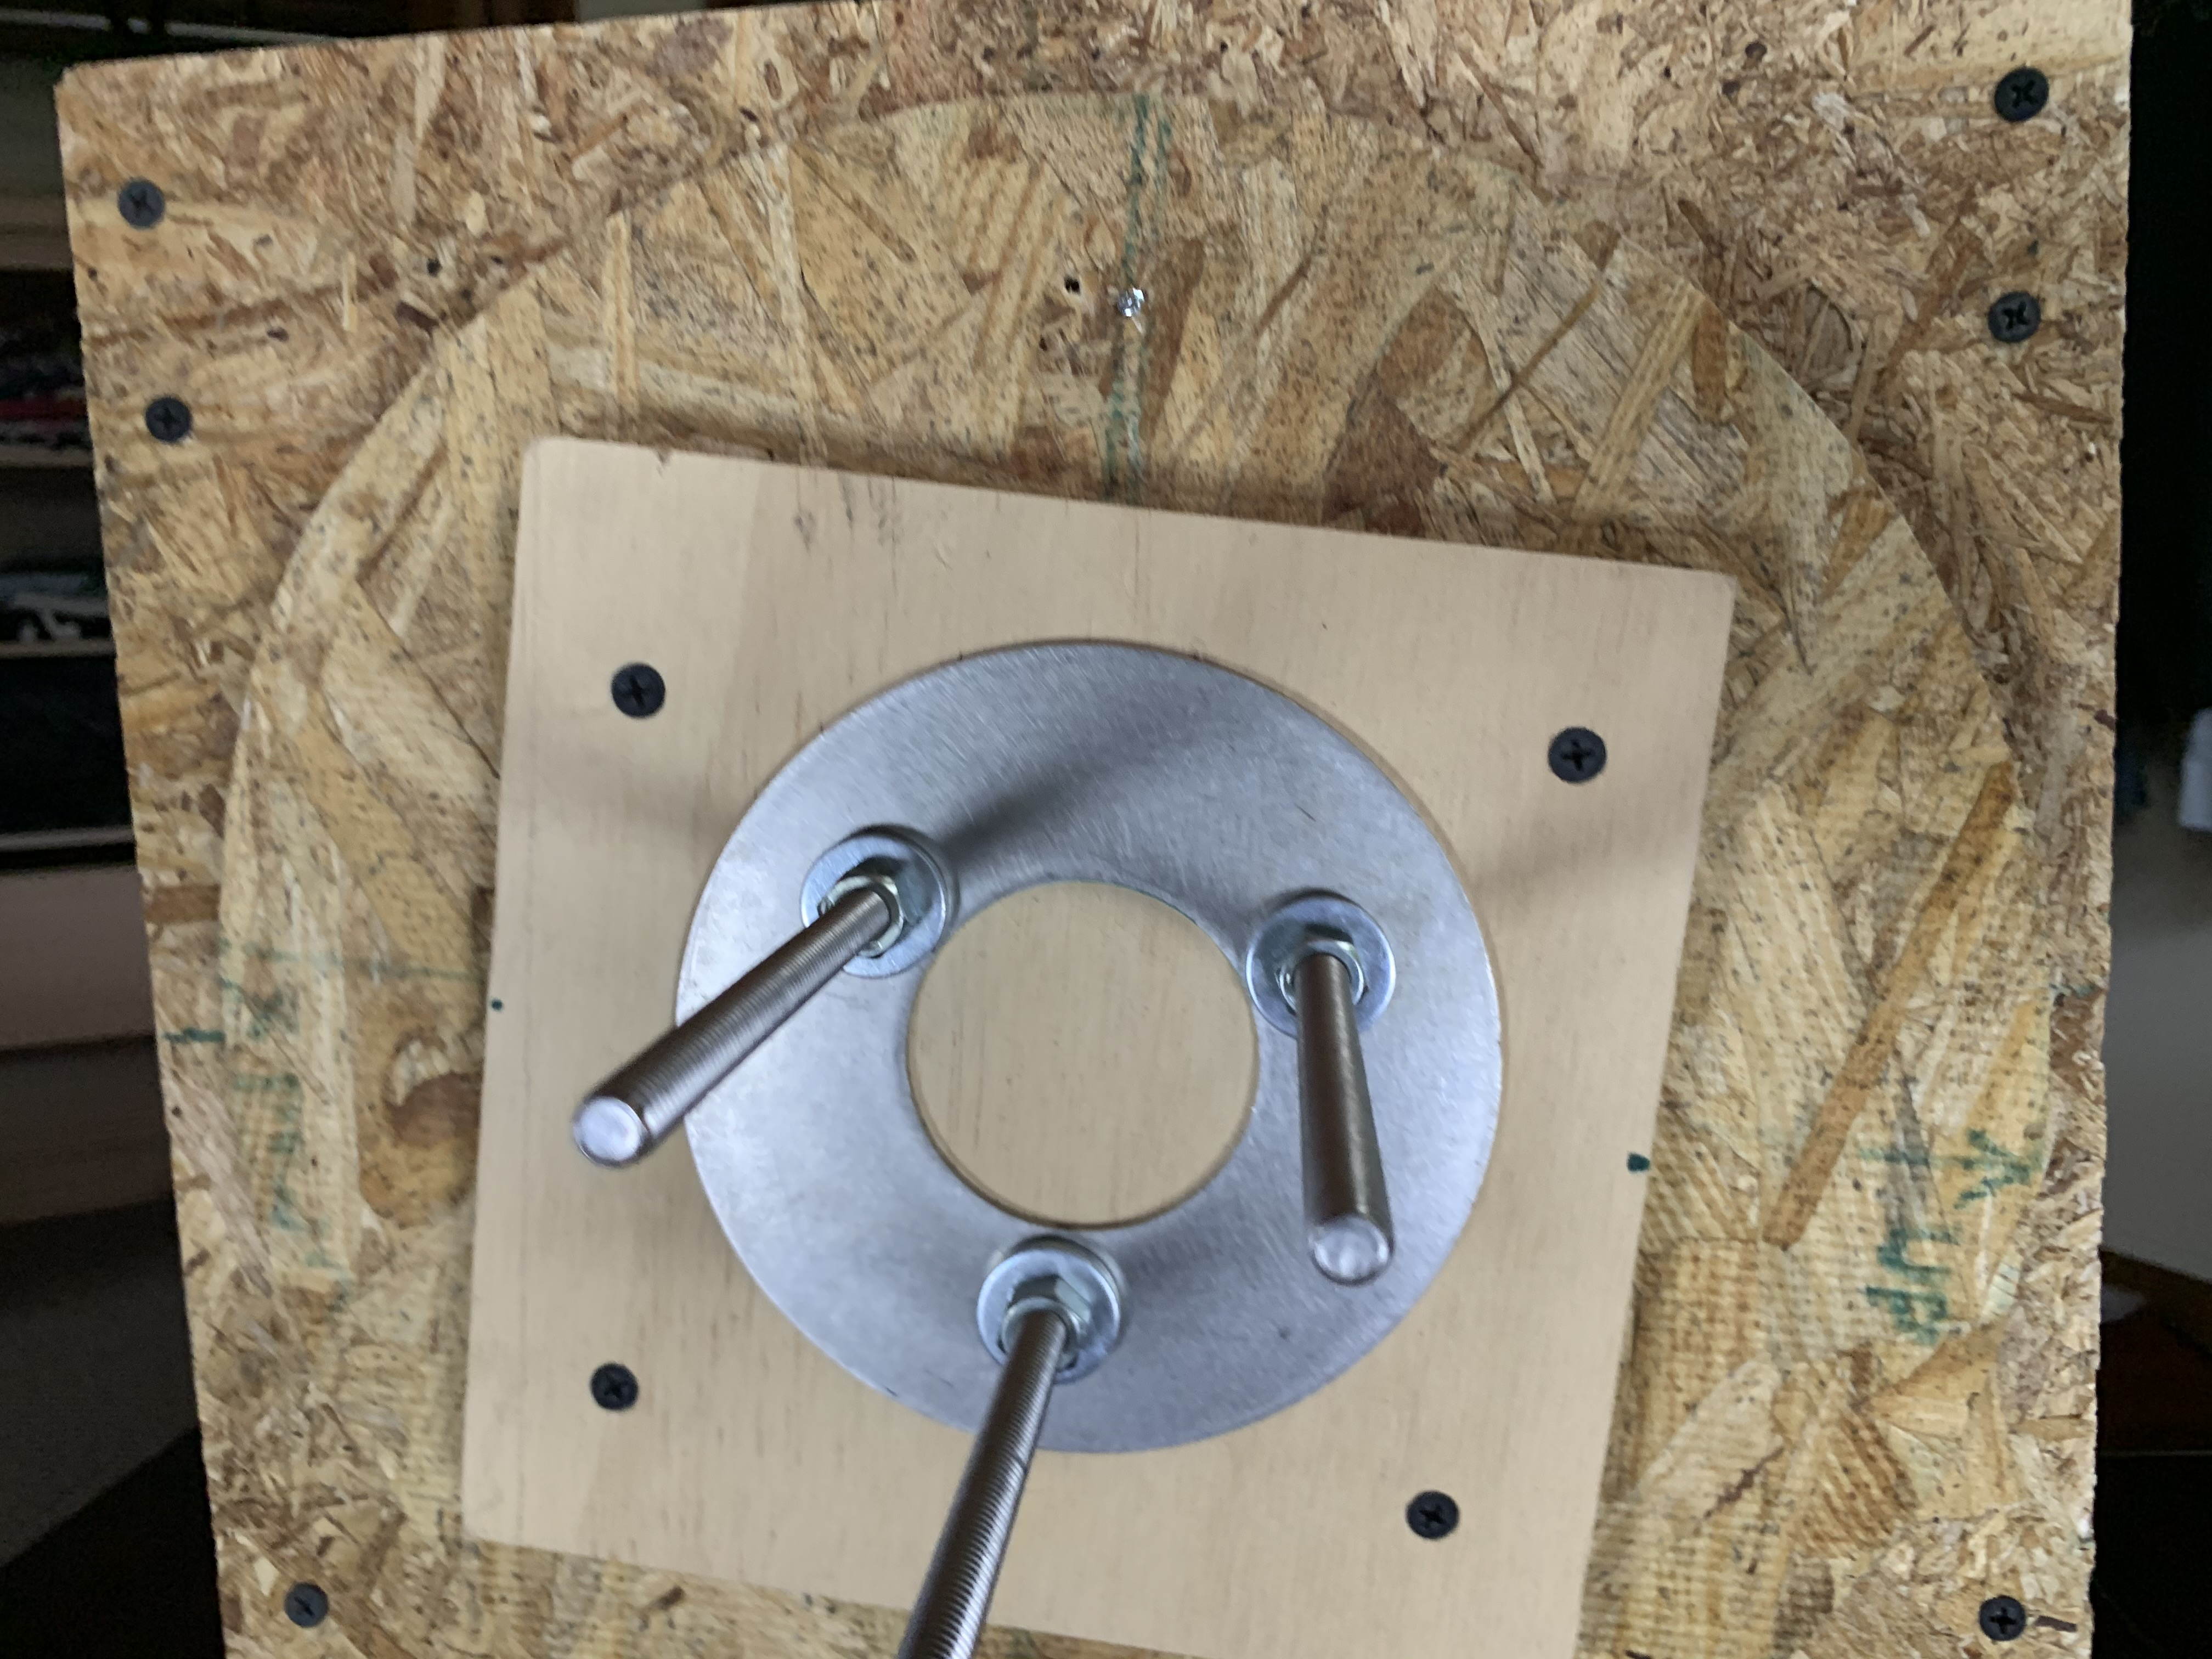bolt: (1242, 887, 1395, 1047), (798, 828, 961, 974), (972, 1236, 1129, 1382)
